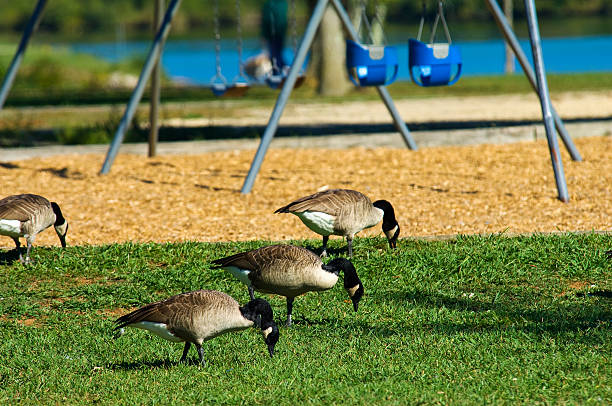goose: (107, 288, 281, 364), (208, 242, 364, 322), (274, 187, 401, 261), (1, 192, 72, 265)
